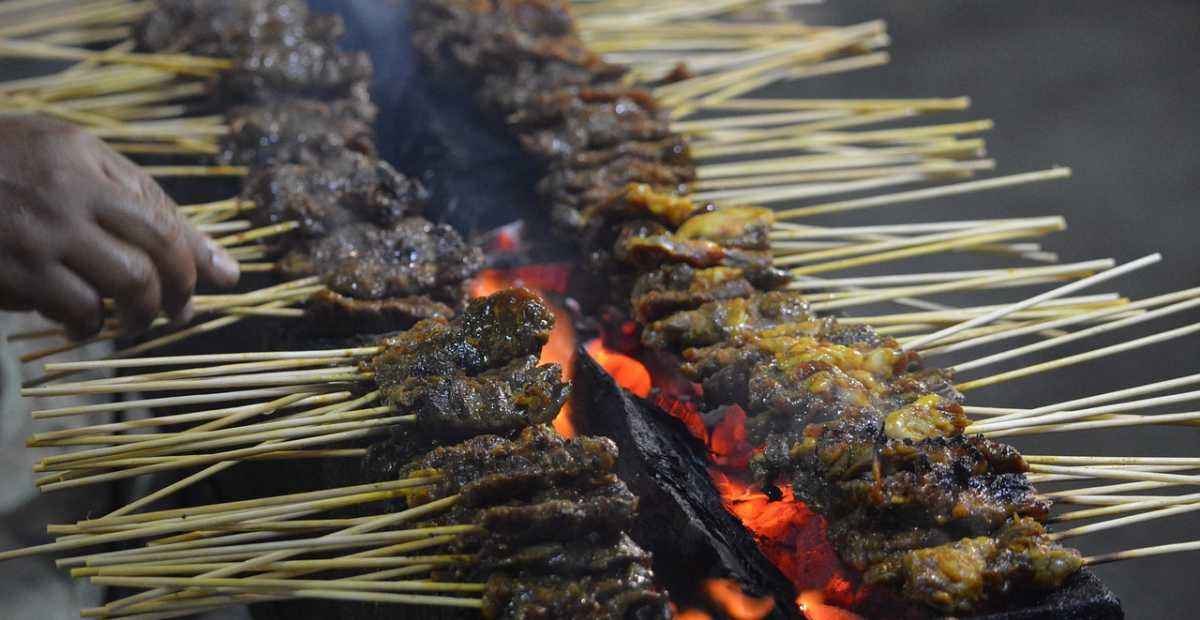sate: (105, 3, 1145, 620)
